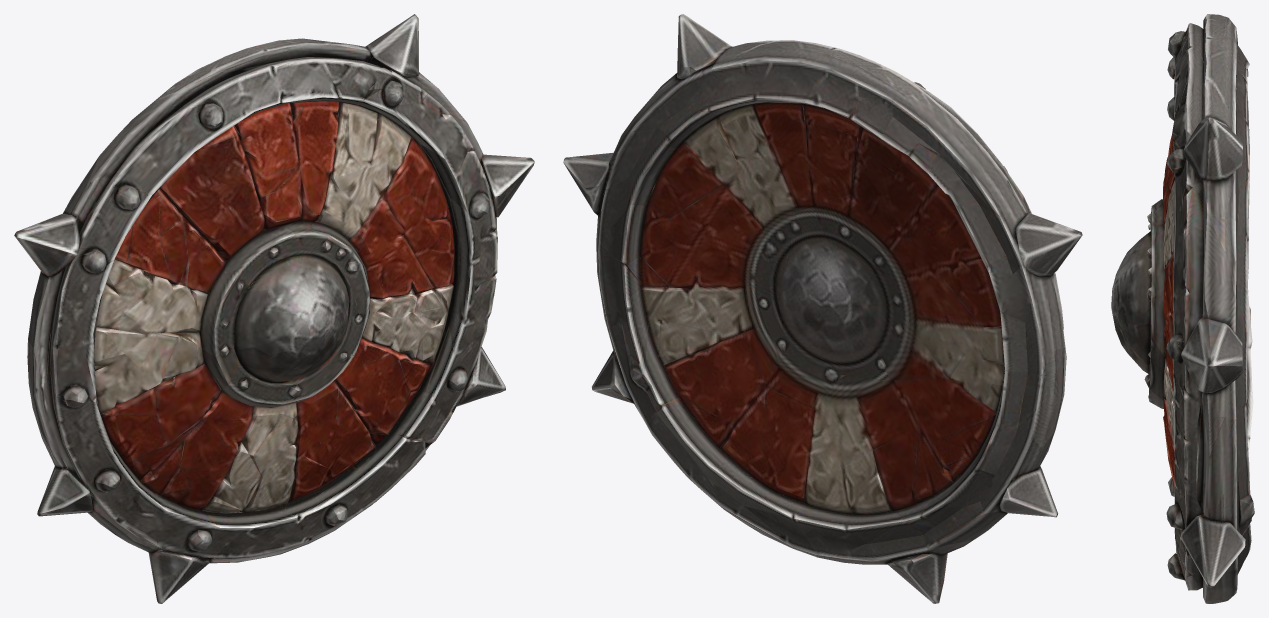
The model's file is frostbeard_shield.glb.
The picture shows the model from 3 angles, left to right: view 1: azimuth 30°, elevation 25°; view 2: azimuth 150°, elevation 25°; view 3: azimuth 270°, elevation 25°; orthographic projection. The views are drawn at different scales.
Size of the model in its own units: 0.8942 by 0.8712 by 0.2011.
1 material, 1 textured.
